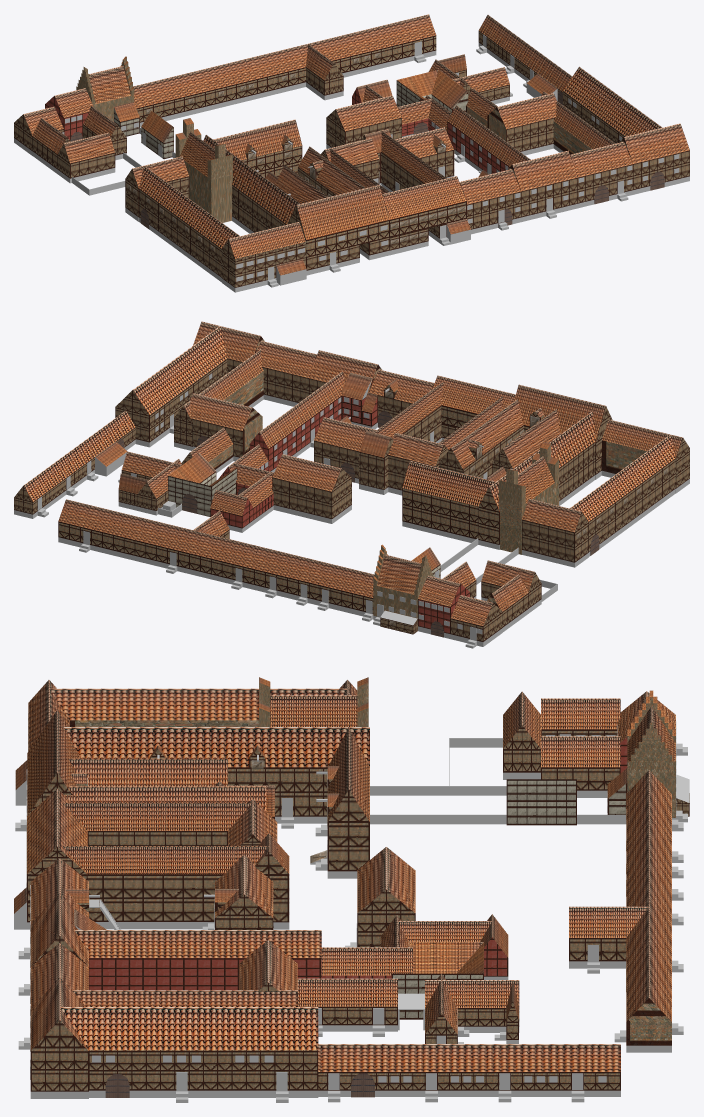
File: Enviroment_ClausMårtensson.FBX
The picture shows the model from 3 angles, top to bottom: view 1: azimuth 30°, elevation 25°; view 2: azimuth 150°, elevation 25°; view 3: azimuth 270°, elevation 25°; orthographic projection. The views are drawn at different scales.
Visible parts, largest first — view 1: Mesh135, Box1630, Mesh019, Mesh084, Mesh039, Box1360, Mesh003, Mesh025, Mesh081, Box1359, Mesh027, Box1357 (+58 smaller); view 2: Mesh135, Box1630, Mesh084, Mesh039, Box1328, Box1360, Mesh081, Mesh027, Box1408, Box1417, Mesh019, Box1317 (+56 smaller); view 3: Mesh084, Mesh135, Mesh025, Mesh081, Box1417, Mesh039, Mesh058, Box1261, Box1404, Mesh008, Mesh007, Box1416 (+52 smaller).
Boxes of the visible parts, bbox=[...] form: Mesh135: bbox=[133, 14, 435, 108]; Box1630: bbox=[136, 35, 436, 122]; Mesh019: bbox=[296, 185, 389, 239]; Mesh084: bbox=[563, 66, 661, 136]; Mesh039: bbox=[139, 166, 239, 248]; Box1360: bbox=[139, 188, 221, 277]; Mesh003: bbox=[382, 176, 466, 219]; Mesh025: bbox=[203, 135, 300, 224]; Mesh081: bbox=[479, 15, 572, 91]; Box1359: bbox=[222, 239, 305, 287]; Mesh027: bbox=[213, 119, 302, 160]; Box1357: bbox=[175, 154, 232, 222]; Mesh135: bbox=[58, 499, 374, 597]; Box1630: bbox=[58, 521, 373, 613]; Mesh084: bbox=[133, 326, 227, 414]; Mesh039: bbox=[569, 434, 675, 521]; Box1328: bbox=[402, 488, 478, 539]; Box1360: bbox=[589, 458, 675, 551]; Mesh081: bbox=[23, 410, 135, 501]; Mesh027: bbox=[402, 460, 495, 506]; Box1408: bbox=[272, 469, 351, 518]; Box1417: bbox=[115, 358, 227, 442]; Mesh019: bbox=[514, 384, 605, 442]; Box1317: bbox=[478, 441, 595, 544]; Mesh084: bbox=[60, 1007, 318, 1050]; Mesh135: bbox=[626, 770, 671, 1021]; Mesh025: bbox=[64, 727, 369, 767]; Mesh081: bbox=[318, 1044, 620, 1071]; Box1417: bbox=[89, 1050, 318, 1090]; Mesh039: bbox=[49, 688, 346, 720]; Mesh058: bbox=[74, 930, 321, 957]; Box1261: bbox=[87, 874, 223, 921]; Box1404: bbox=[89, 958, 321, 990]; Mesh008: bbox=[62, 846, 268, 874]; Mesh007: bbox=[62, 803, 252, 830]; Box1416: bbox=[318, 1072, 620, 1090].
Size of the model in its own units: 154 by 24.54 by 123.
